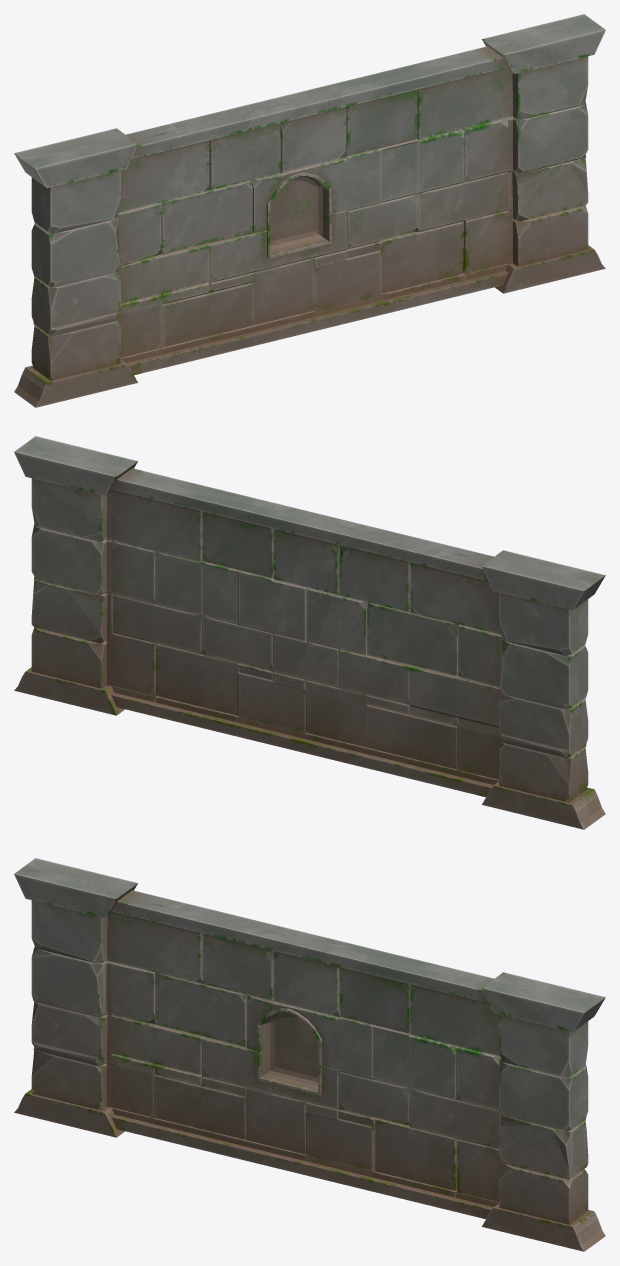
The model's file is dungeon_wall.glb.
The picture shows the model from 3 angles, top to bottom: view 1: azimuth 30°, elevation 25°; view 2: azimuth 150°, elevation 25°; view 3: azimuth 330°, elevation 25°; orthographic projection.
Parts seen in each view (by area): view 1: Ventana; view 2: Ventana; view 3: Ventana.
Boxes of the visible parts, left/top/right/bottom form: Ventana: left=14, top=14, right=605, bottom=407; Ventana: left=14, top=436, right=605, bottom=829; Ventana: left=14, top=858, right=605, bottom=1251.
Size of the model in its own units: 10 by 4 by 0.6585.
1 material, 1 textured.
